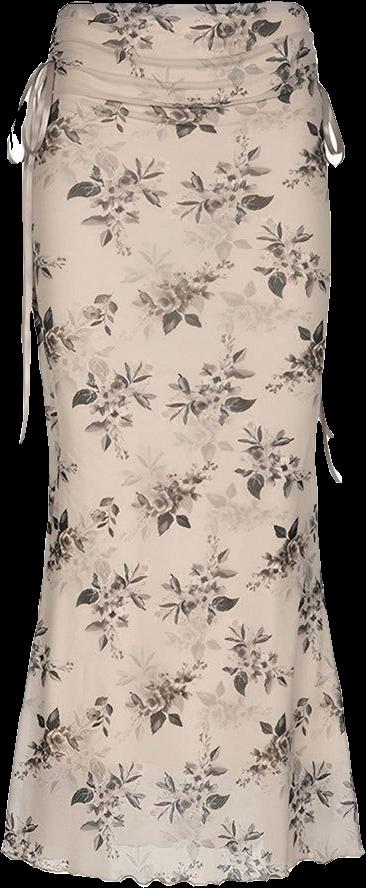Hemline: (0, 845, 365, 887)
Waistline: (58, 0, 306, 14)
